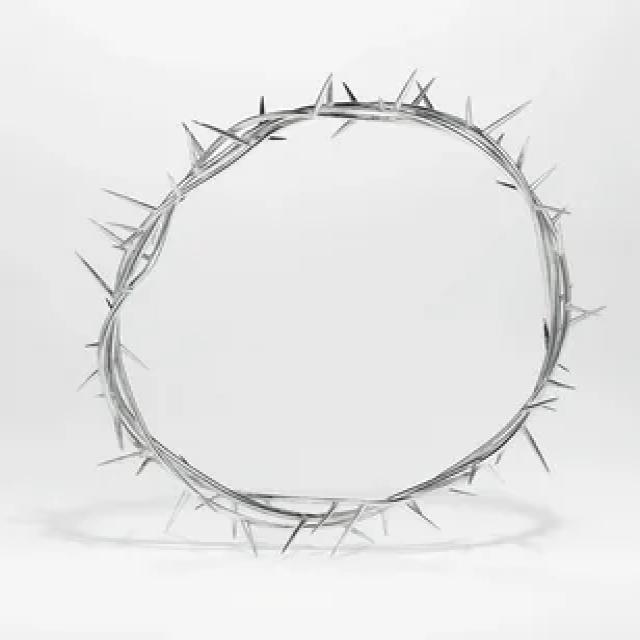pigeon: (76, 60, 589, 551)
